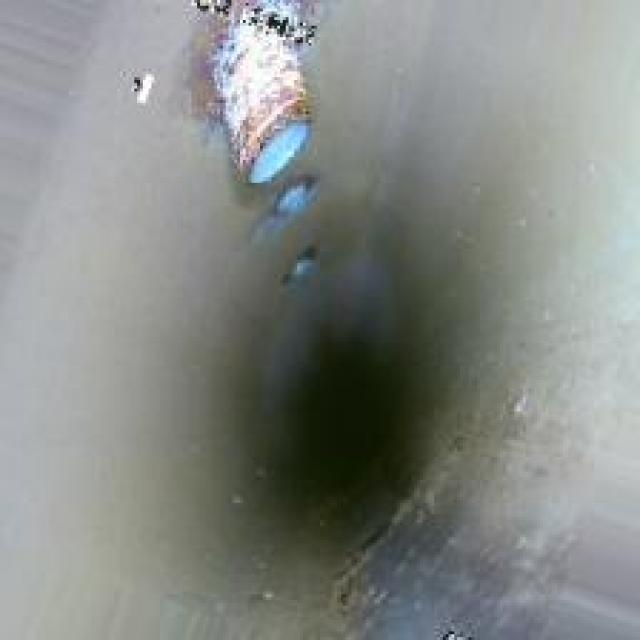ferrule: (200, 0, 331, 177), (274, 174, 312, 214), (286, 246, 314, 277)
